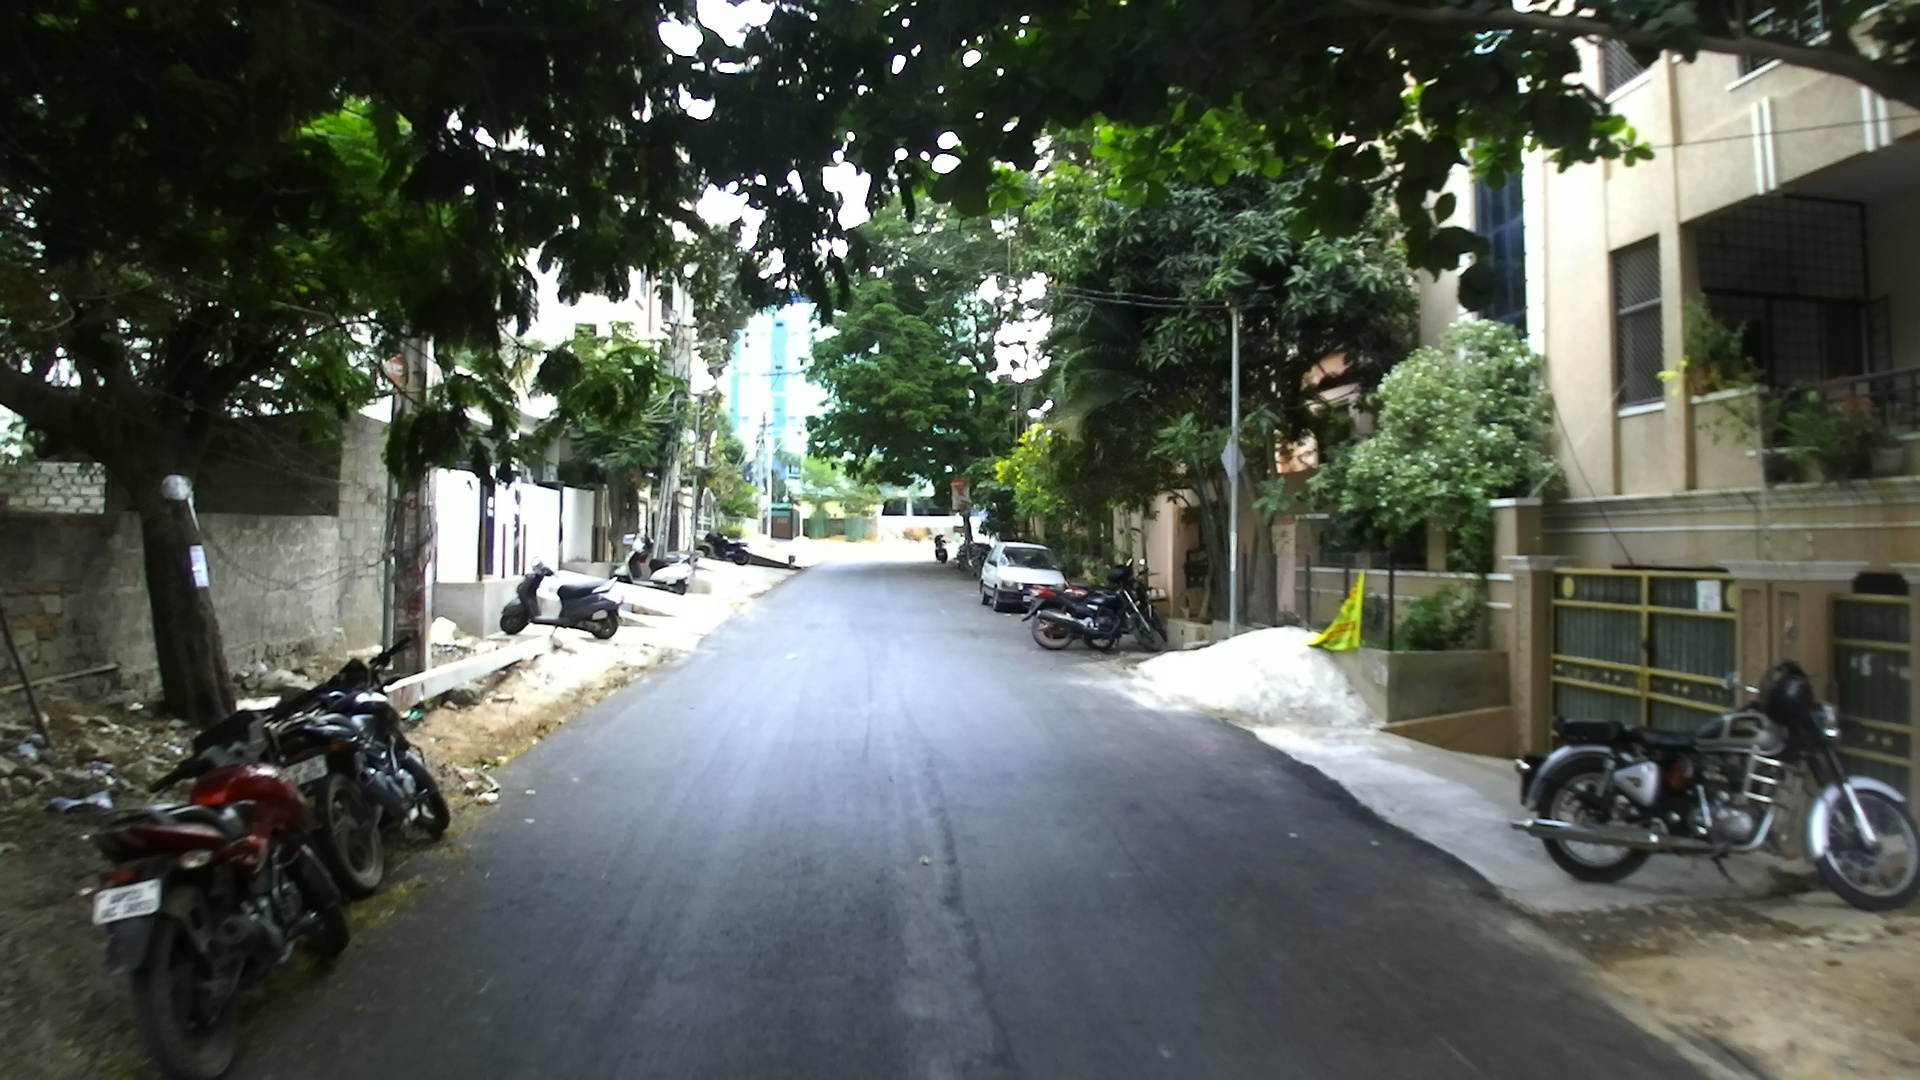vehicle: (1515, 655, 1917, 909), (67, 742, 355, 1073), (497, 564, 622, 644), (1033, 582, 1156, 653), (978, 541, 1067, 611)
